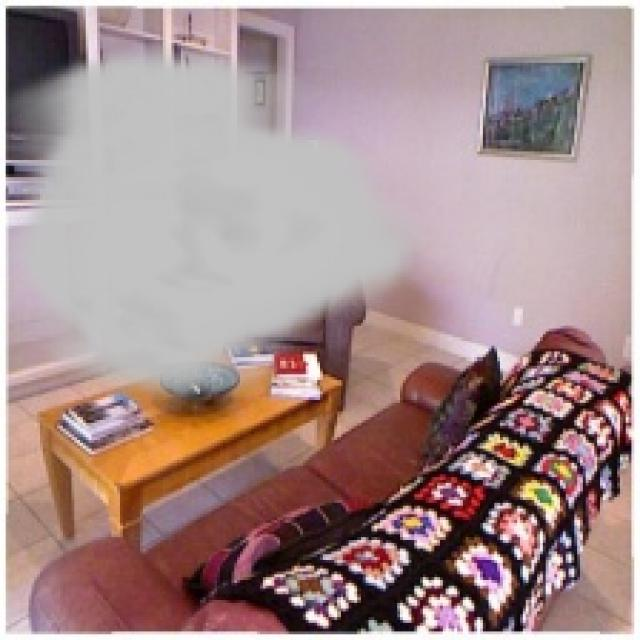smoke: (6, 43, 428, 408)
